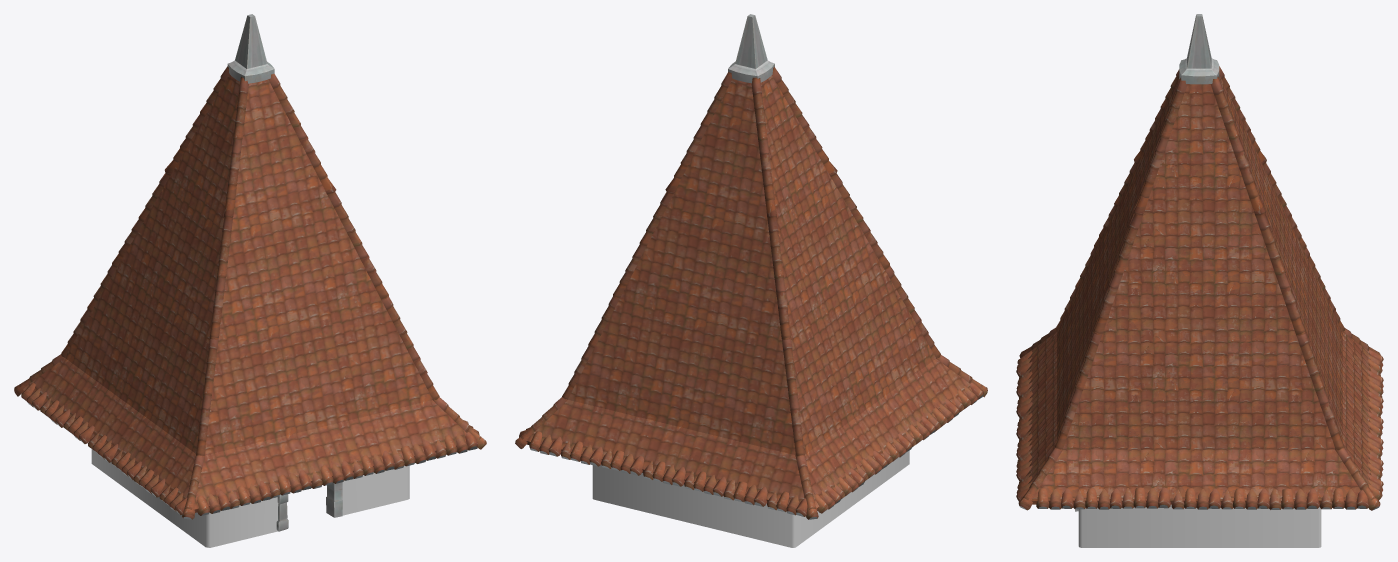
The model's file is SM_TowerE_Top_03.fbx.
The picture shows the model from 3 angles, left to right: view 1: azimuth 30°, elevation 25°; view 2: azimuth 150°, elevation 25°; view 3: azimuth 270°, elevation 25°; orthographic projection. The views are drawn at different scales.
Visible parts, largest first — view 1: SM_TowerE_Top_03_LOD0; view 2: SM_TowerE_Top_03_LOD0; view 3: SM_TowerE_Top_03_LOD0.
Part boxes in pixels (x1,y1,x2,y2): SM_TowerE_Top_03_LOD0: (14,14,486,547); SM_TowerE_Top_03_LOD0: (515,14,987,547); SM_TowerE_Top_03_LOD0: (1016,14,1383,547).
Size of what is drawn, in the model's own units: 11.02 by 15.93 by 11.02.
